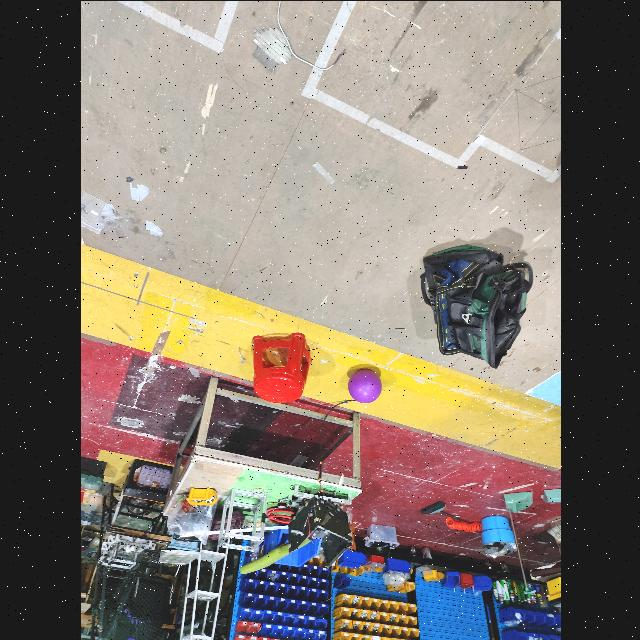P: (348, 368, 382, 404)
